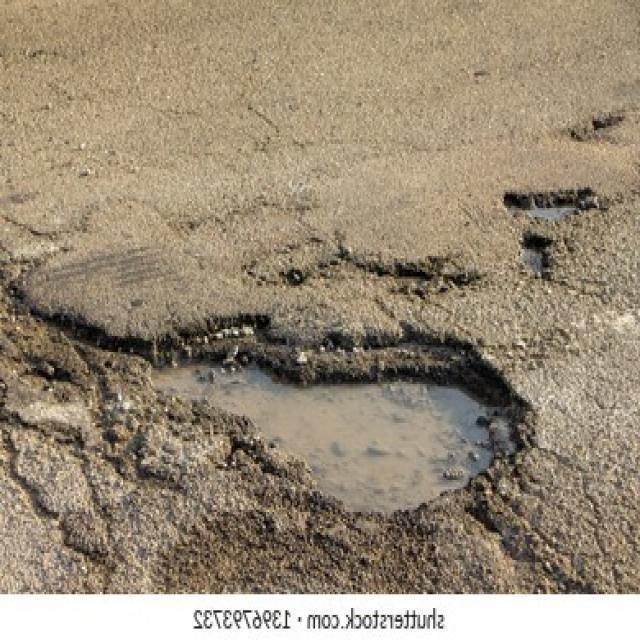Pothole: (36, 315, 537, 514), (503, 188, 606, 222), (383, 263, 483, 295), (519, 231, 553, 281)
